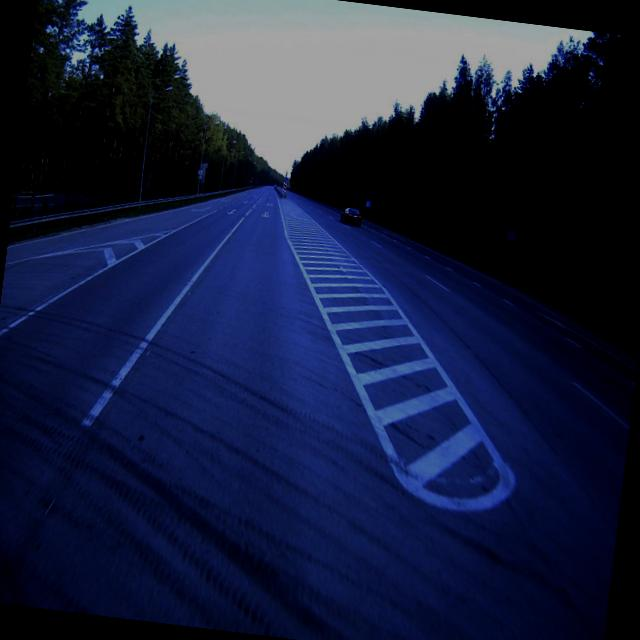road: (0, 185, 636, 640), (277, 187, 282, 191)
